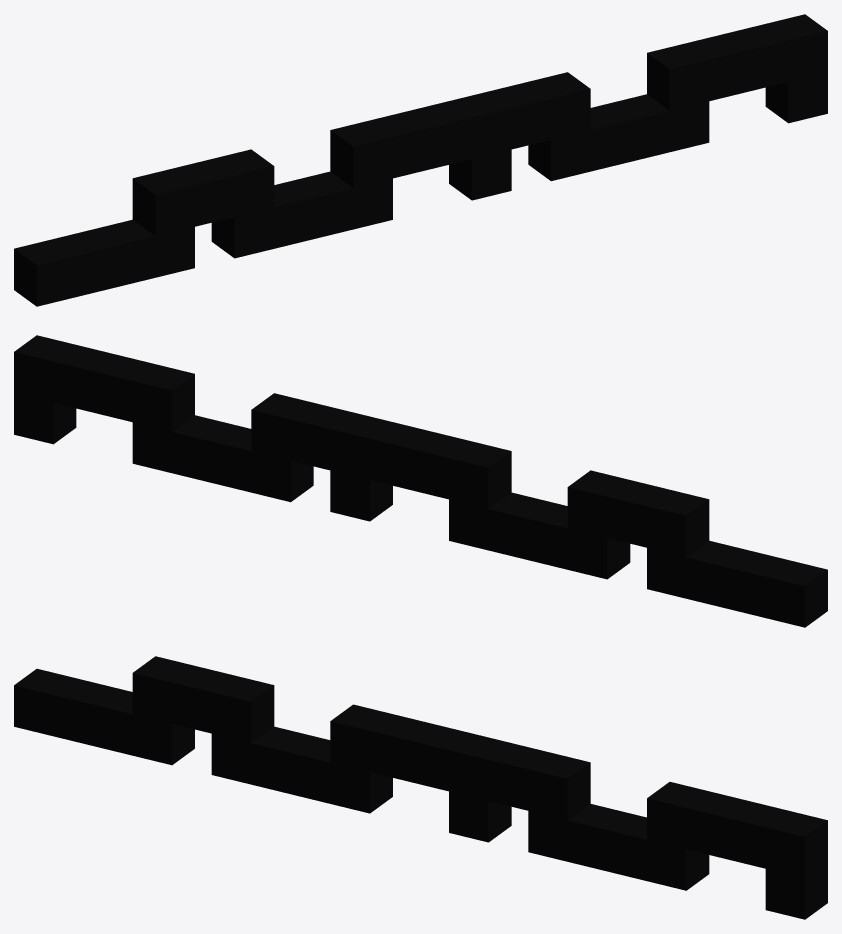
The model's file is Gauge_Gore_Thin_Empty.002.fbx.
The picture shows the model from 3 angles, top to bottom: view 1: azimuth 30°, elevation 25°; view 2: azimuth 150°, elevation 25°; view 3: azimuth 330°, elevation 25°; orthographic projection.
Parts seen in each view (by area): view 1: Gauge_Gore_Thin_Empty.002; view 2: Gauge_Gore_Thin_Empty.002; view 3: Gauge_Gore_Thin_Empty.002.
Boxes of the visible parts, x1=… form: Gauge_Gore_Thin_Empty.002: x1=14, y1=14, x2=827, y2=306; Gauge_Gore_Thin_Empty.002: x1=14, y1=335, x2=827, y2=627; Gauge_Gore_Thin_Empty.002: x1=14, y1=656, x2=827, y2=919.
Size of the model in its own units: 2 by 0.2 by 0.1.
